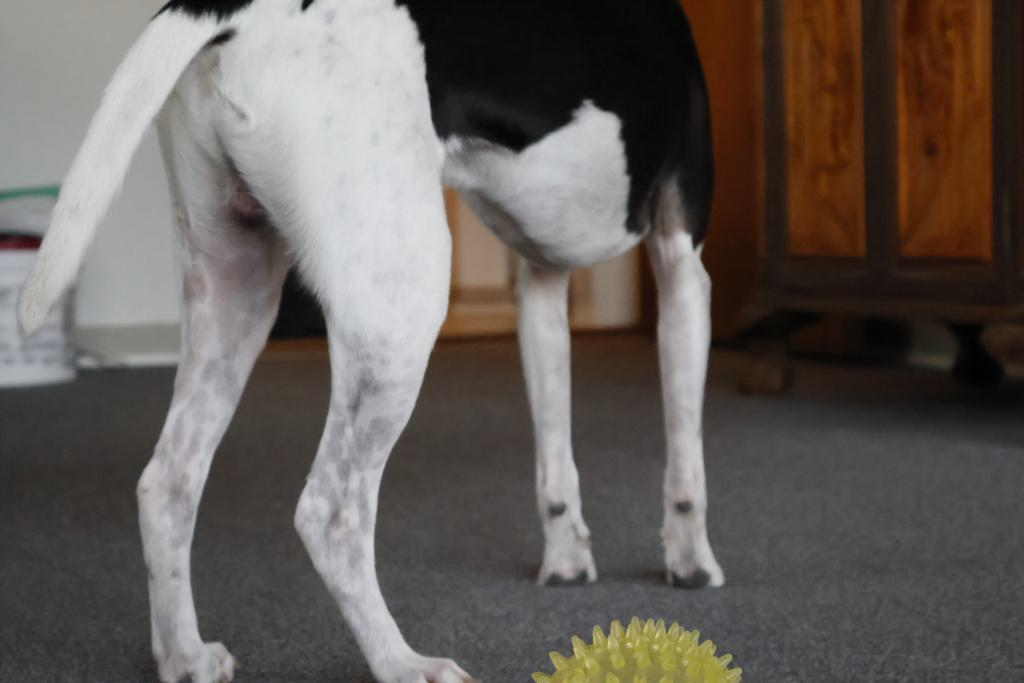Dog: (11, 0, 745, 683)
